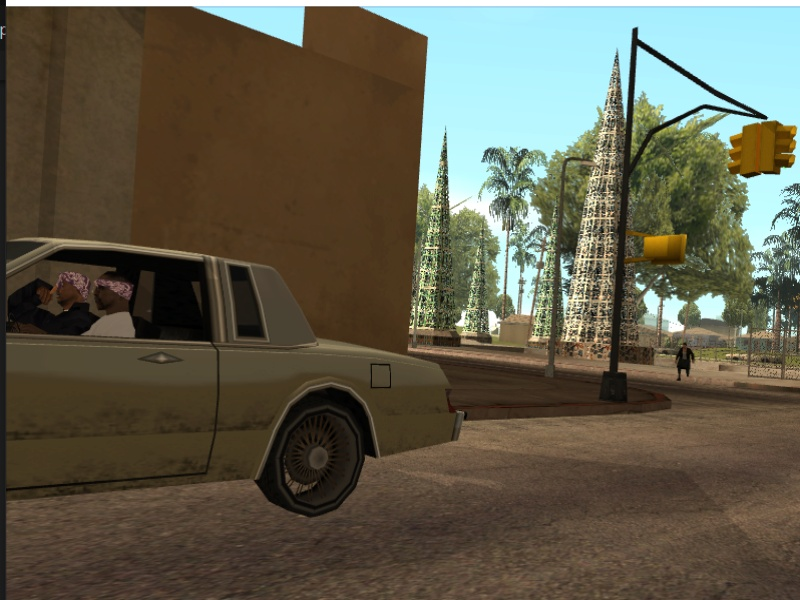person: (675, 340, 697, 381)
pole: (592, 18, 649, 410), (539, 151, 571, 373)
vehicle: (4, 234, 470, 521)
